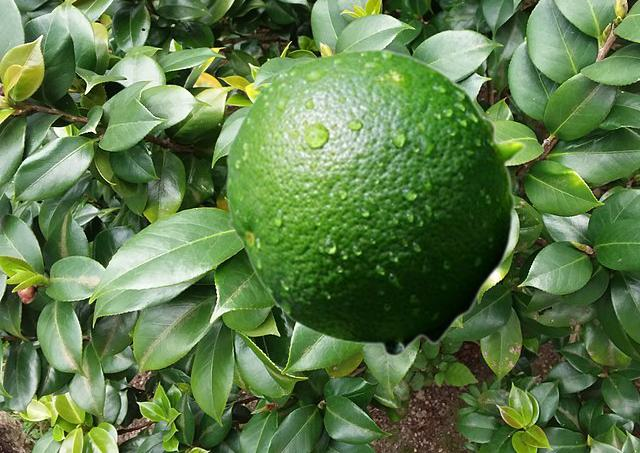dalandan: (225, 47, 525, 357)
